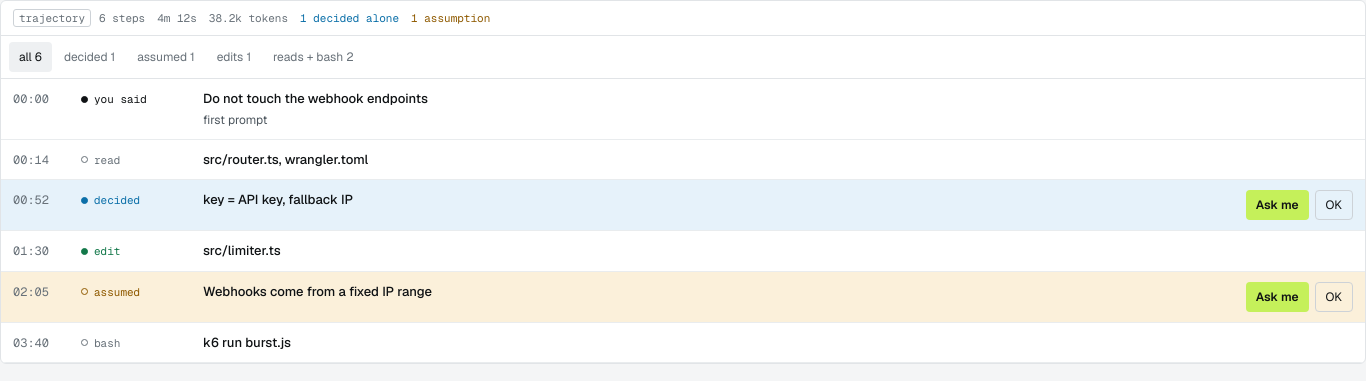
Test: Trajectory block › filters by click and by arrow keys
Click the tab "reads + bash 2": (313, 57) [263, 42, 364, 72]
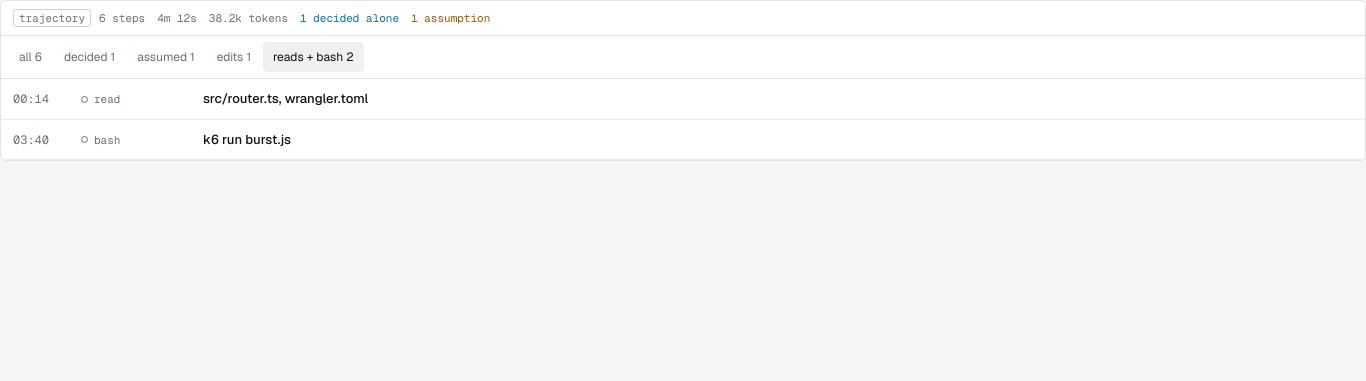
Expected: the text "k6 run burst.js" is shown, [203, 130, 291, 148]
Now the text "src/limiter.ts" is gone
Press ArrowRight in the tab "reads + bash 2", box [263, 42, 364, 72]
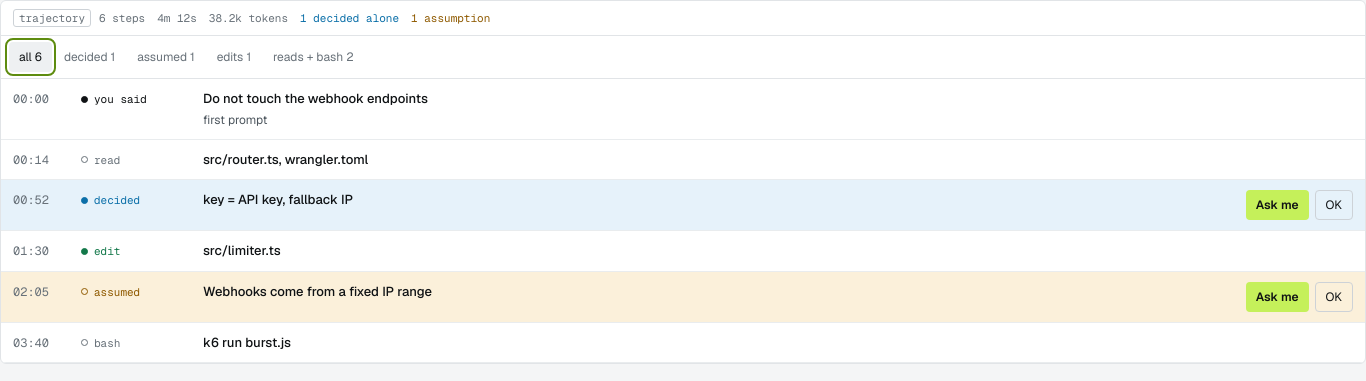
Now the tab "all 6" is selected
Press ArrowRight in the tab "all 6", box [9, 42, 52, 72]
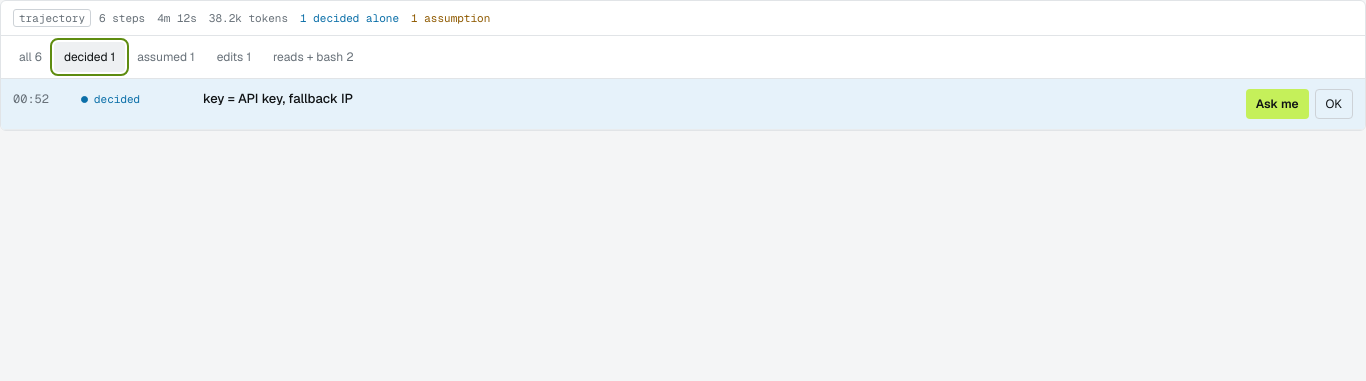
Now the text "key = API key, fallback IP" is shown, box [203, 90, 353, 107]
Now the text "src/router.ts, wrangler.toml" is gone
